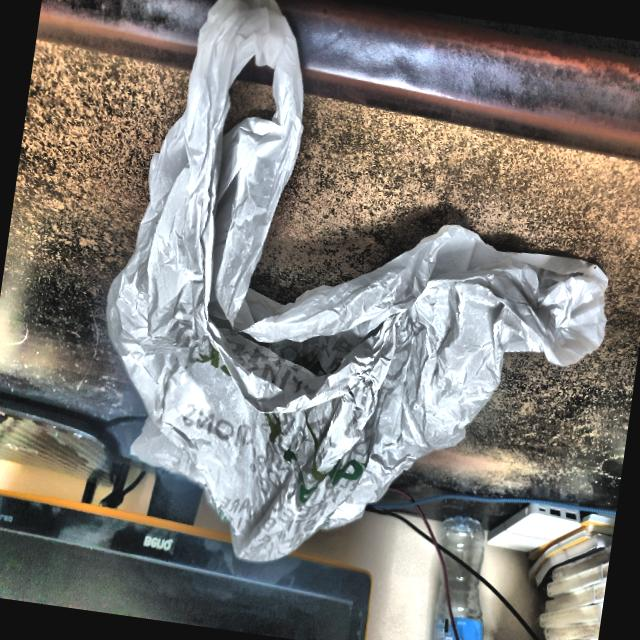plastic bag: (65, 0, 640, 617)
